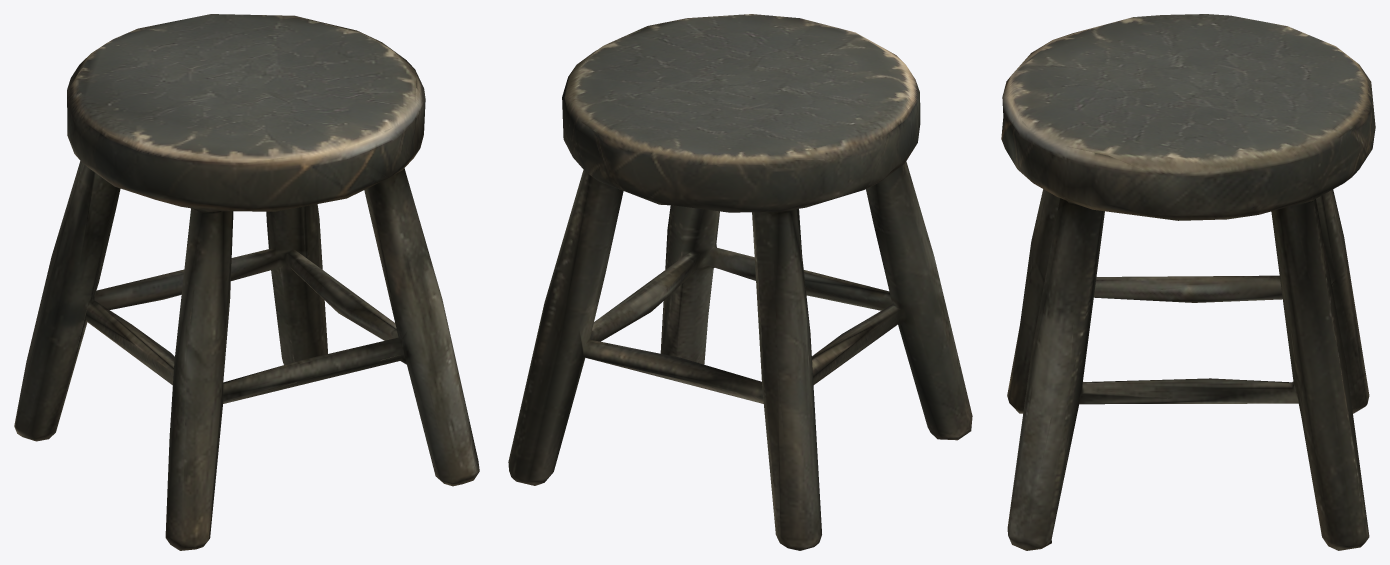
File: stool.fbx
3 renders of one model, left to right at view 1: azimuth 30°, elevation 25°; view 2: azimuth 150°, elevation 25°; view 3: azimuth 270°, elevation 25°, orthographic. The views are drawn at different scales.
Parts seen in each view (by area): view 1: stool; view 2: stool; view 3: stool.
Boxes of the visible parts, box(x1,y1,x2,y2) form: stool: box(14, 14, 479, 550); stool: box(508, 14, 972, 550); stool: box(1001, 14, 1375, 550).
Size of the model in its own units: 208 by 241 by 208.
Materials: 1 (1 with a texture image).
